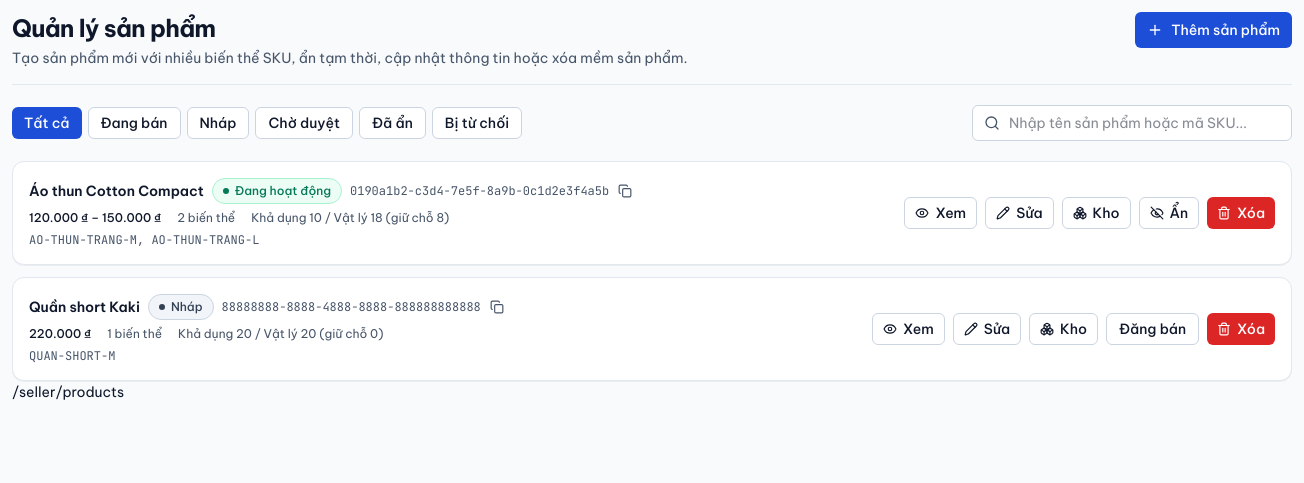
SellerProductsPage & SellerProductFormPage (T3-07) › groups seller inventory rows by product, filters by status, and hides with fresh product version
Expected: the link "Áo thun Cotton Compact" is shown, [29,180,204,202]
Expected: the link "Quần short Kaki" is shown, [29,296,140,318]
Click the tab "Nháp" at (218, 123), box [186,107,250,139]
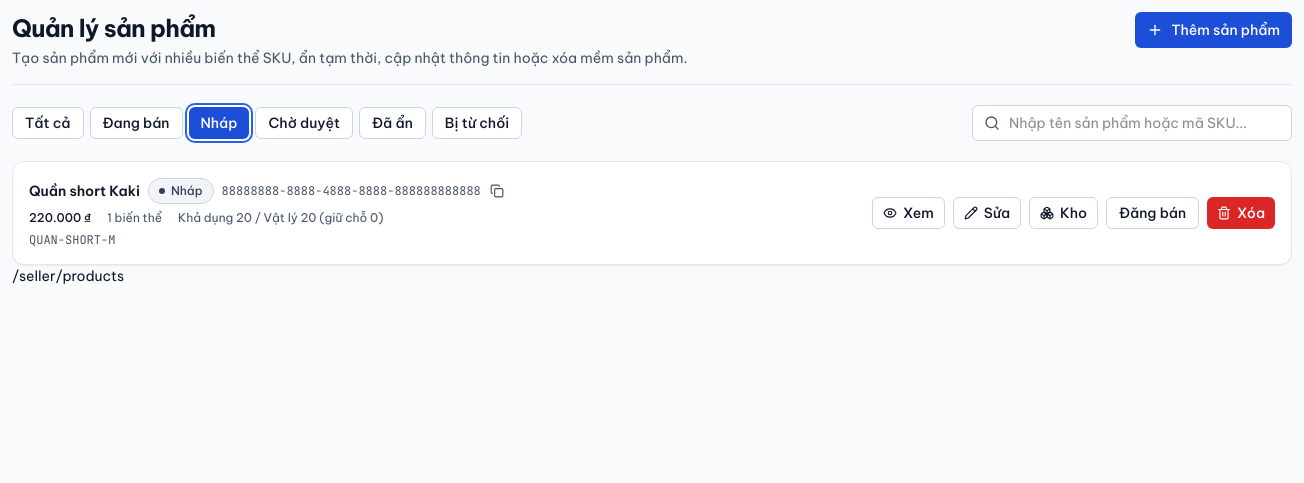
Expected: the link "Quần short Kaki" is shown, [29,180,140,202]
Expected: the link "Áo thun Cotton Compact" is gone
Click the tab "Tất cả" at (48, 123), box [12,107,84,139]
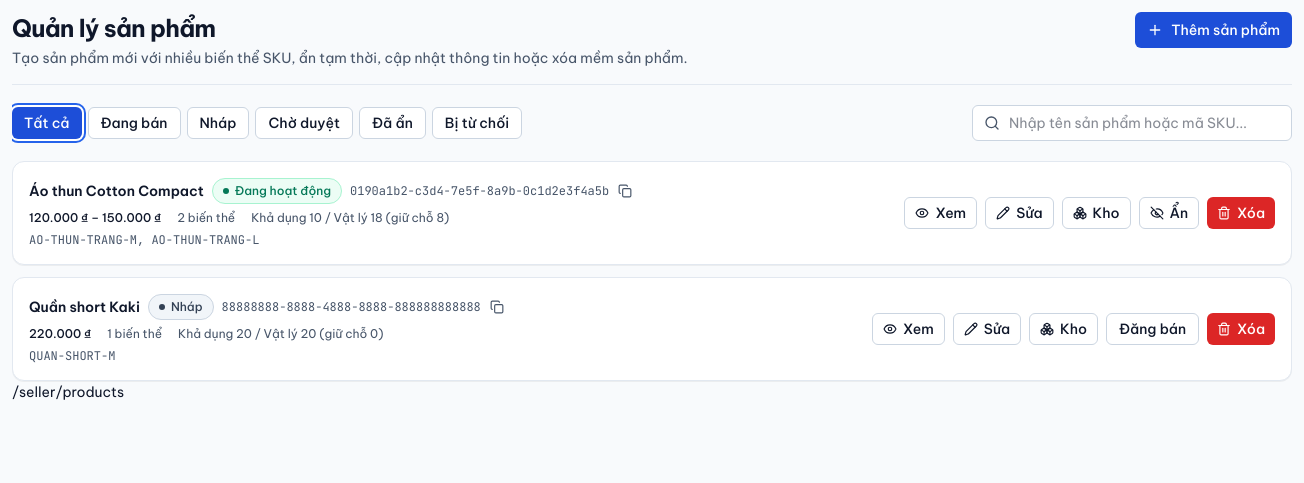
Click the button "Ẩn" at (1169, 213), box [1138,197,1199,229]
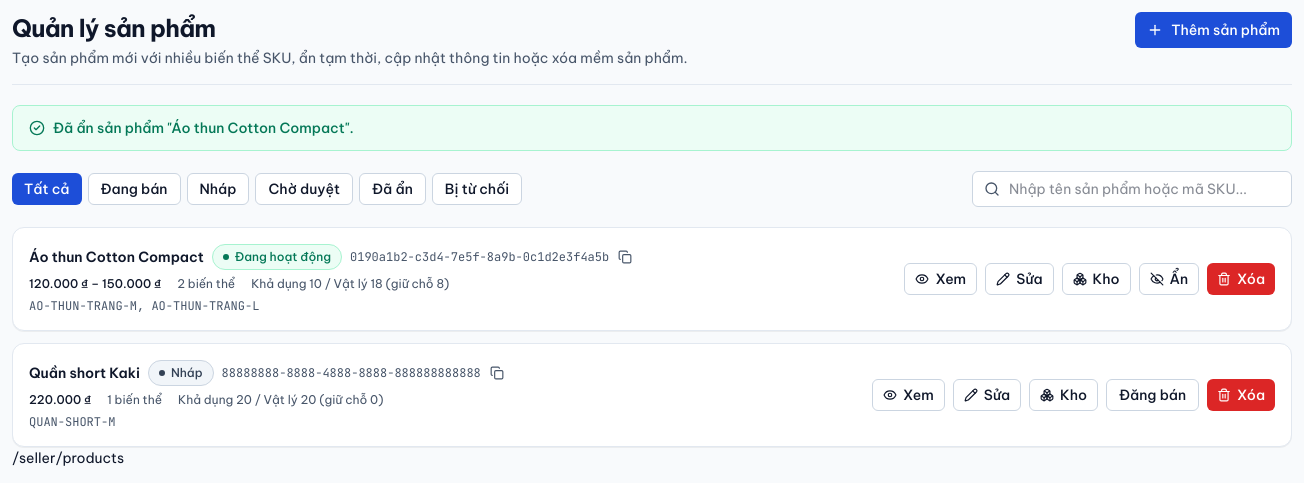
Expected: the text "Đã ẩn sản phẩm \"Áo thun Cotton Compact\"." is shown, [29,118,354,138]
